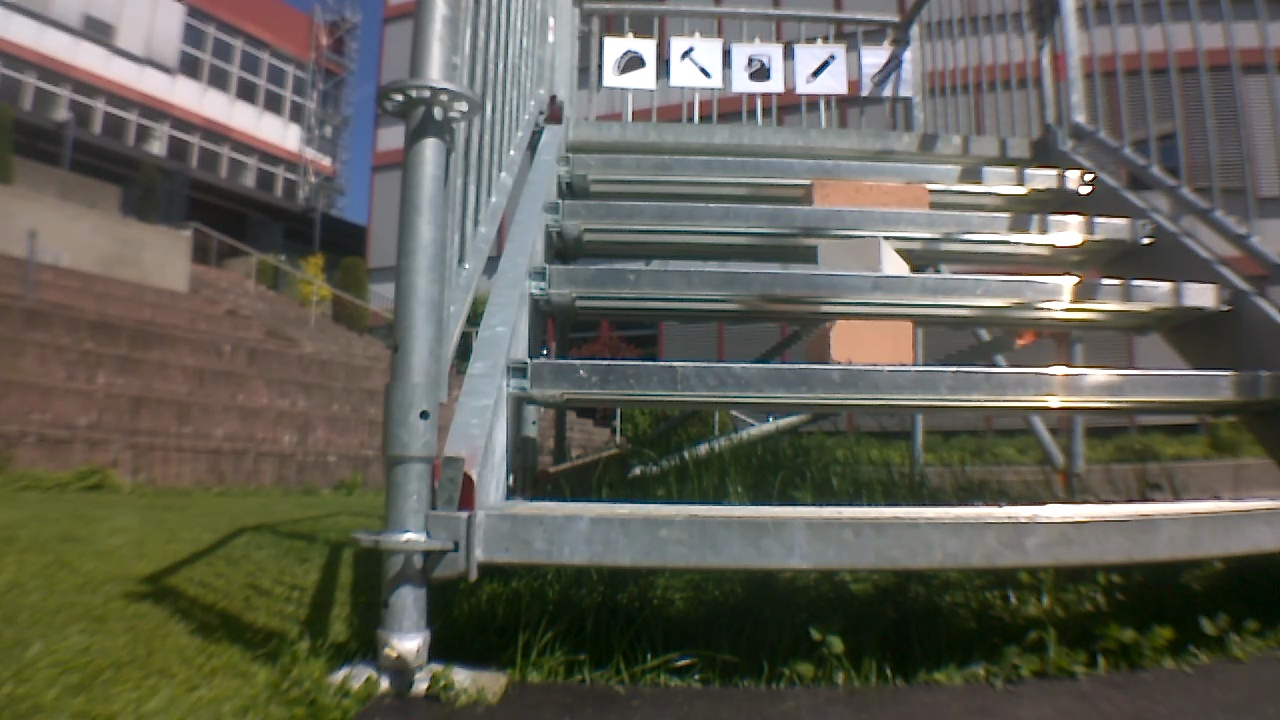brick: (815, 230, 917, 272), (825, 321, 915, 362), (809, 183, 935, 208)
edge: (465, 499, 1280, 570), (508, 359, 1280, 410), (544, 197, 1155, 248), (523, 272, 1241, 309), (562, 115, 1053, 155), (559, 156, 1094, 186)
stairs: (382, 0, 1280, 678)
steps: (445, 126, 1280, 583)
